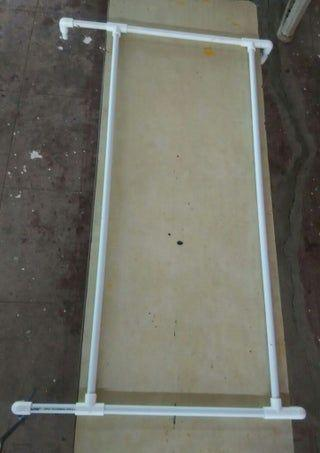PVC: (88, 23, 121, 407), (247, 42, 276, 406), (63, 18, 273, 53), (15, 398, 312, 422)
